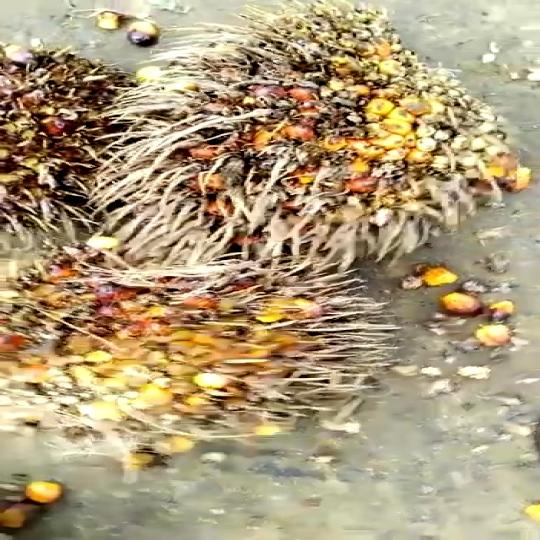terlalu masak: (67, 6, 512, 276), (0, 242, 395, 458)
